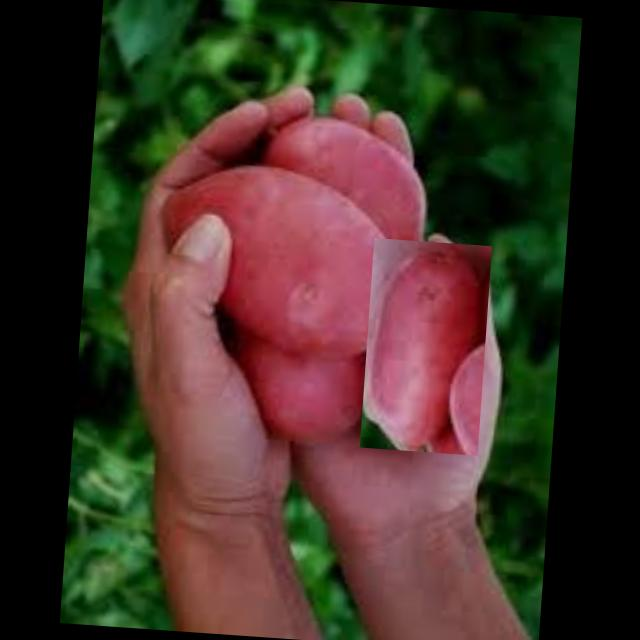Defected potato: (146, 152, 412, 364), (358, 238, 491, 456)
